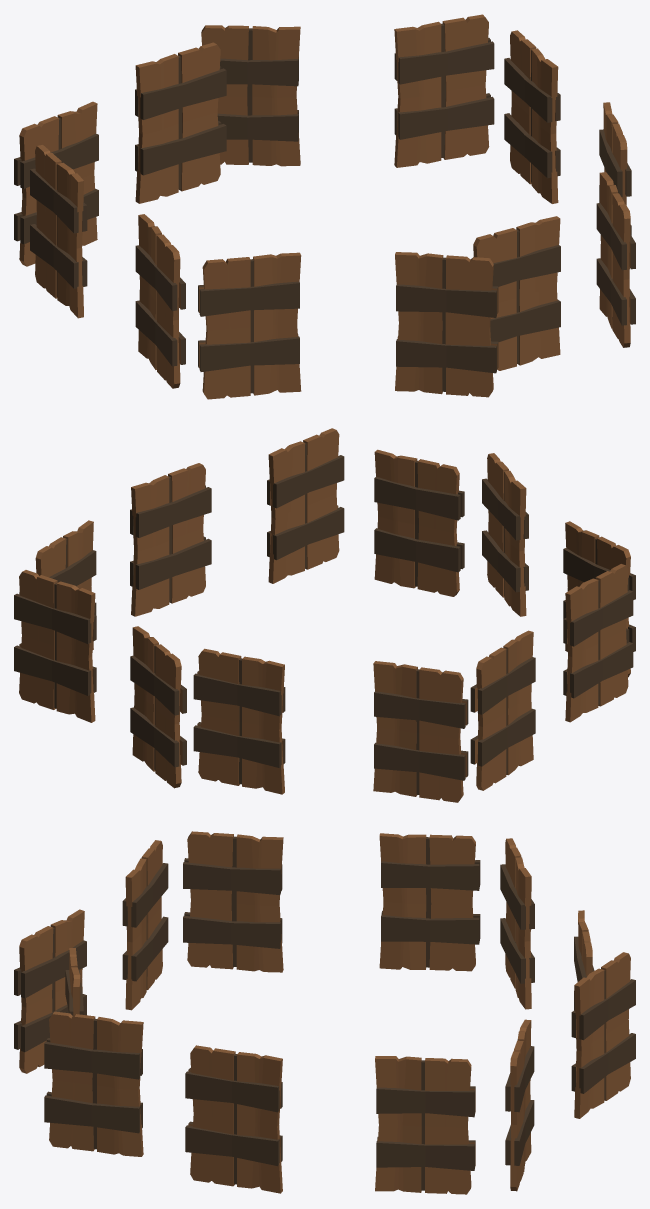
File: HumanPencere.fbx
The picture shows the model from 3 angles, top to bottom: view 1: azimuth 30°, elevation 25°; view 2: azimuth 150°, elevation 25°; view 3: azimuth 270°, elevation 25°; orthographic projection. The views are drawn at different scales.
Parts seen in each view (by area): view 1: HumanPencere.002, HumanPencere.012, HumanPencere.010, HumanPencere.004, HumanPencere.005, HumanPencere.003, HumanPencere.008, HumanPencere.011, HumanPencere, HumanPencere.009, HumanPencere.007, HumanPencere.006; view 2: HumanPencere.009, HumanPencere.004, HumanPencere.003, HumanPencere.010, HumanPencere.006, HumanPencere.007, HumanPencere, HumanPencere.008, HumanPencere.005, HumanPencere.002, HumanPencere.012, HumanPencere.011; view 3: HumanPencere.011, HumanPencere.008, HumanPencere, HumanPencere.007, HumanPencere.006, HumanPencere.005, HumanPencere.002, HumanPencere.012, HumanPencere.009, HumanPencere.010, HumanPencere.004, HumanPencere.003.
Boxes of the visible parts, x1,y1,x2,y2 form: HumanPencere.002: (395,252,498,397); HumanPencere.012: (198,252,301,399); HumanPencere.010: (394,14,494,167); HumanPencere.004: (135,42,226,203); HumanPencere.005: (201,25,300,166); HumanPencere.003: (473,216,560,370); HumanPencere.008: (30,145,87,318); HumanPencere.011: (504,30,560,203); HumanPencere: (135,214,185,388); HumanPencere.009: (14,101,98,266); HumanPencere.007: (596,172,635,347); HumanPencere.006: (599,102,631,235); HumanPencere.009: (373,661,468,802); HumanPencere.004: (193,648,285,794); HumanPencere.003: (374,449,464,596); HumanPencere.010: (14,570,96,722); HumanPencere.006: (130,463,211,616); HumanPencere.007: (267,428,344,583); HumanPencere: (563,564,633,722); HumanPencere.008: (470,630,535,790); HumanPencere.005: (130,626,186,788); HumanPencere.002: (482,453,528,616); HumanPencere.012: (563,521,635,677); HumanPencere.011: (35,520,96,649); HumanPencere.011: (375,1056,475,1194); HumanPencere.008: (379,833,480,971); HumanPencere: (183,831,283,972); HumanPencere.007: (44,1011,143,1156); HumanPencere.006: (185,1045,282,1193); HumanPencere.005: (571,952,635,1118); HumanPencere.002: (14,909,86,1073); HumanPencere.012: (122,840,168,1010); HumanPencere.009: (500,838,534,1009); HumanPencere.010: (505,1019,534,1191); HumanPencere.004: (574,910,594,1010); HumanPencere.003: (65,948,83,1015).
Size of the model in its own units: 11.48 by 3.04 by 12.87.
